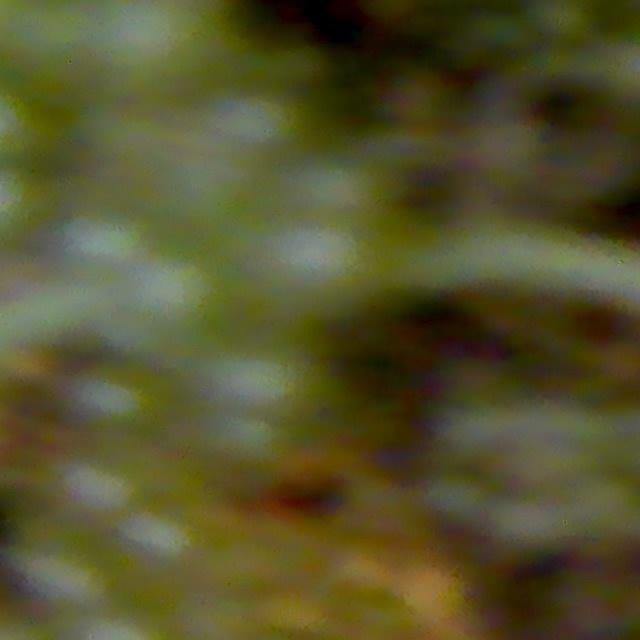SeaGrape: (254, 204, 354, 308), (129, 250, 217, 354), (112, 0, 216, 83), (204, 62, 304, 145), (291, 154, 388, 237), (21, 0, 104, 87), (62, 208, 150, 275), (532, 0, 595, 50)
